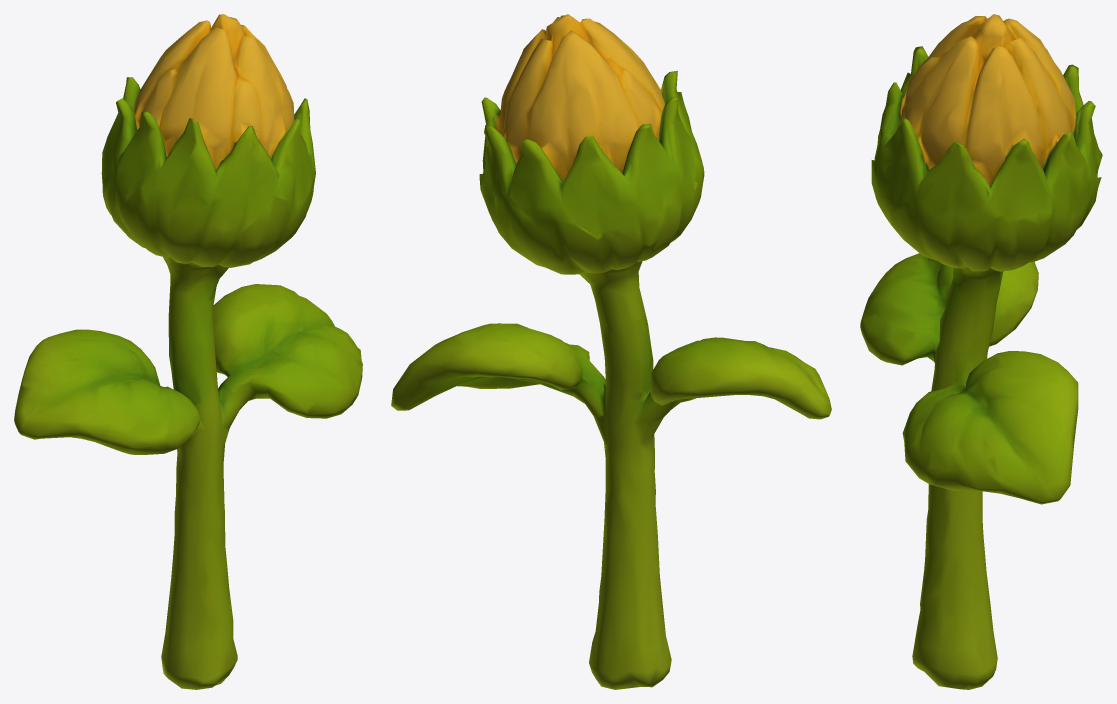
Rendered from sunflower_s3.glb.
The picture shows the model from 3 angles, left to right: view 1: azimuth 30°, elevation 25°; view 2: azimuth 150°, elevation 25°; view 3: azimuth 270°, elevation 25°; orthographic projection. The views are drawn at different scales.
Parts seen in each view (by area): view 1: tripo_node_2497fe88-69fb-44f9-bd60-9e68837e777b; view 2: tripo_node_2497fe88-69fb-44f9-bd60-9e68837e777b; view 3: tripo_node_2497fe88-69fb-44f9-bd60-9e68837e777b.
Part boxes in pixels (box(x1,y1,x2,y2)): tripo_node_2497fe88-69fb-44f9-bd60-9e68837e777b: box(14, 14, 362, 689); tripo_node_2497fe88-69fb-44f9-bd60-9e68837e777b: box(391, 14, 831, 689); tripo_node_2497fe88-69fb-44f9-bd60-9e68837e777b: box(860, 14, 1102, 689).
Size of the model in its own units: 0.5981 by 1 by 0.3189.
Materials: 1 (1 with a texture image).
